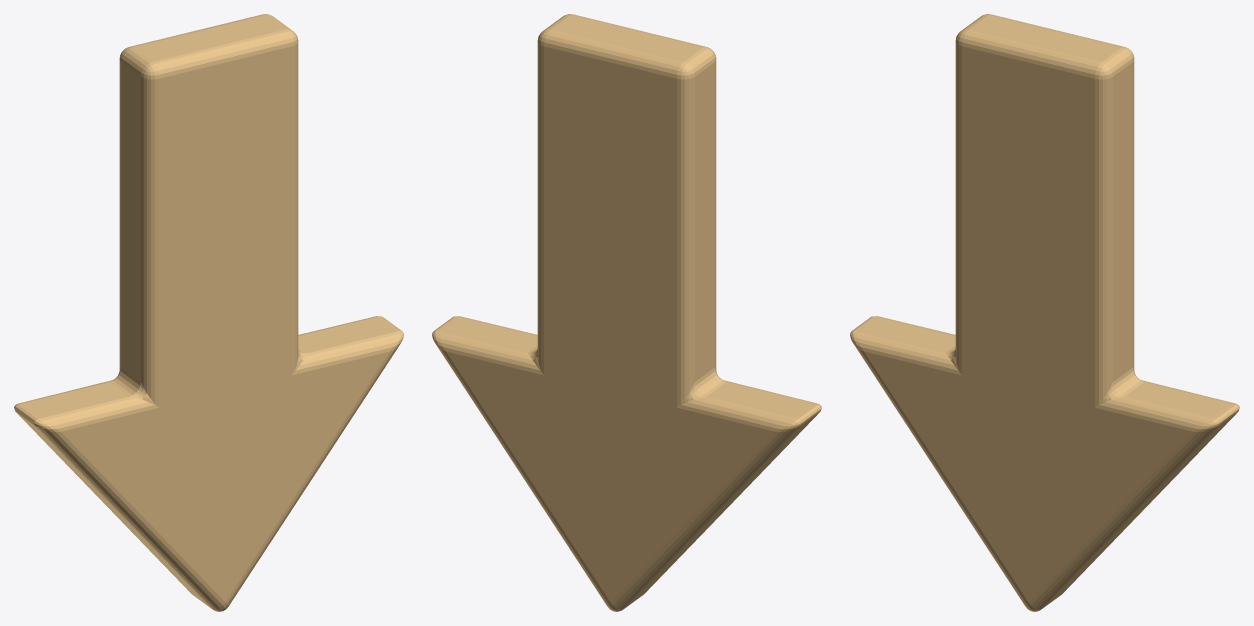
File: Arrow.fbx
3 views of the same model, side by side, from view 1: azimuth 30°, elevation 25°; view 2: azimuth 150°, elevation 25°; view 3: azimuth 330°, elevation 25° (orthographic).
Parts seen in each view (by area): view 1: Grid; view 2: Grid; view 3: Grid.
Boxes of the visible parts, <box> form: Grid: <box>14,14,403,611</box>; Grid: <box>432,14,821,611</box>; Grid: <box>850,14,1239,611</box>.
Bounding box in the file's own units: 1.94 × 2.84 × 0.3.
